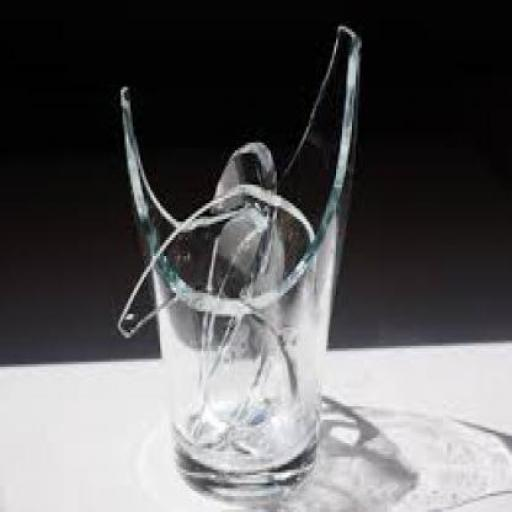glass: (118, 23, 358, 496), (117, 182, 316, 409), (199, 140, 277, 444)
